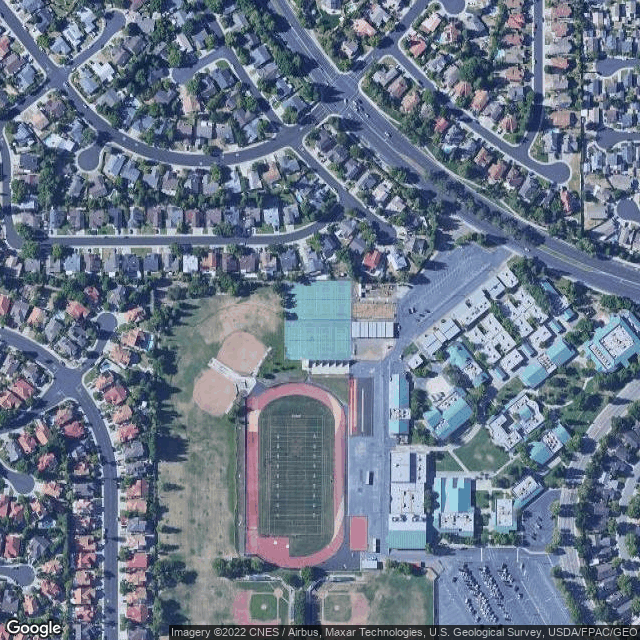Court: (286, 326, 303, 357), (317, 326, 332, 357), (334, 327, 349, 357), (300, 327, 315, 357), (302, 285, 318, 313), (334, 285, 349, 314), (317, 284, 332, 313), (286, 285, 299, 314)
